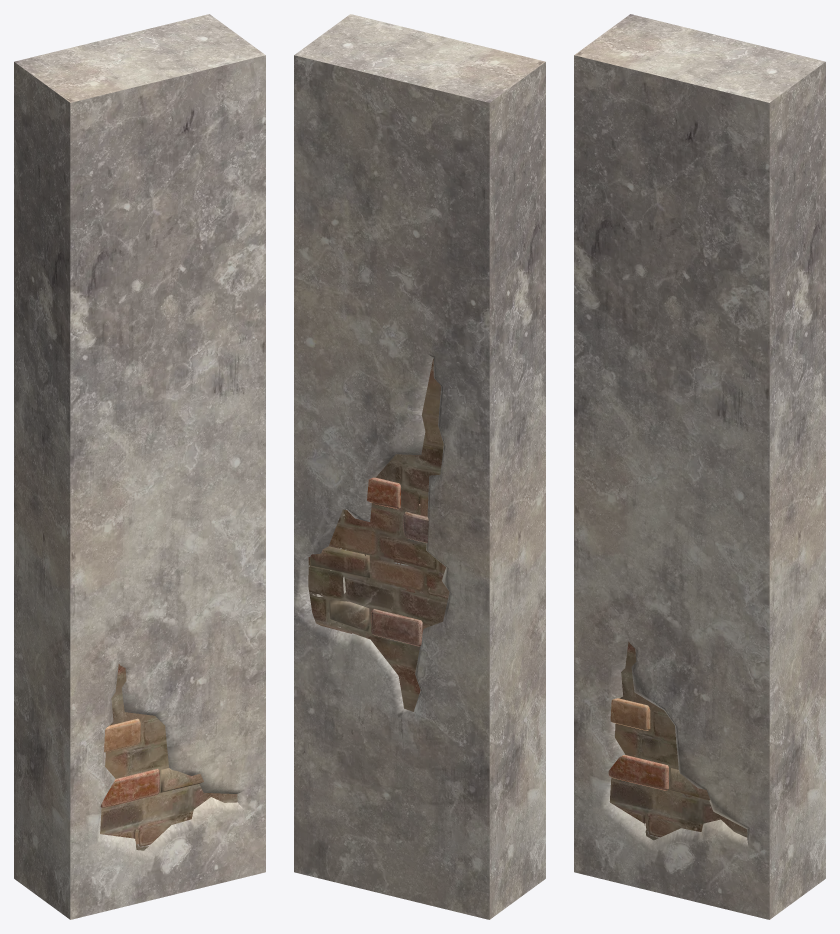
3 renders of one model, left to right at view 1: azimuth 30°, elevation 25°; view 2: azimuth 150°, elevation 25°; view 3: azimuth 330°, elevation 25°, orthographic.
Visible parts, largest first — view 1: SM_Human_Ruins_Wall_05_LOD0; view 2: SM_Human_Ruins_Wall_05_LOD0; view 3: SM_Human_Ruins_Wall_05_LOD0.
Boxes of the visible parts, x1,y1,x2,y2 form: SM_Human_Ruins_Wall_05_LOD0: [14, 14, 265, 919]; SM_Human_Ruins_Wall_05_LOD0: [294, 14, 545, 919]; SM_Human_Ruins_Wall_05_LOD0: [574, 14, 825, 919].
Bounding box in the file's own units: 1 × 4 × 0.5.
3 materials, 3 textured.
